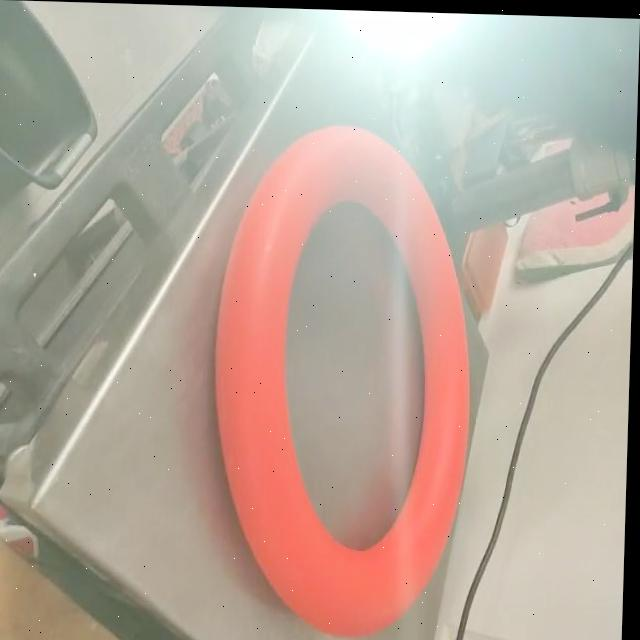note: (203, 109, 483, 640)
